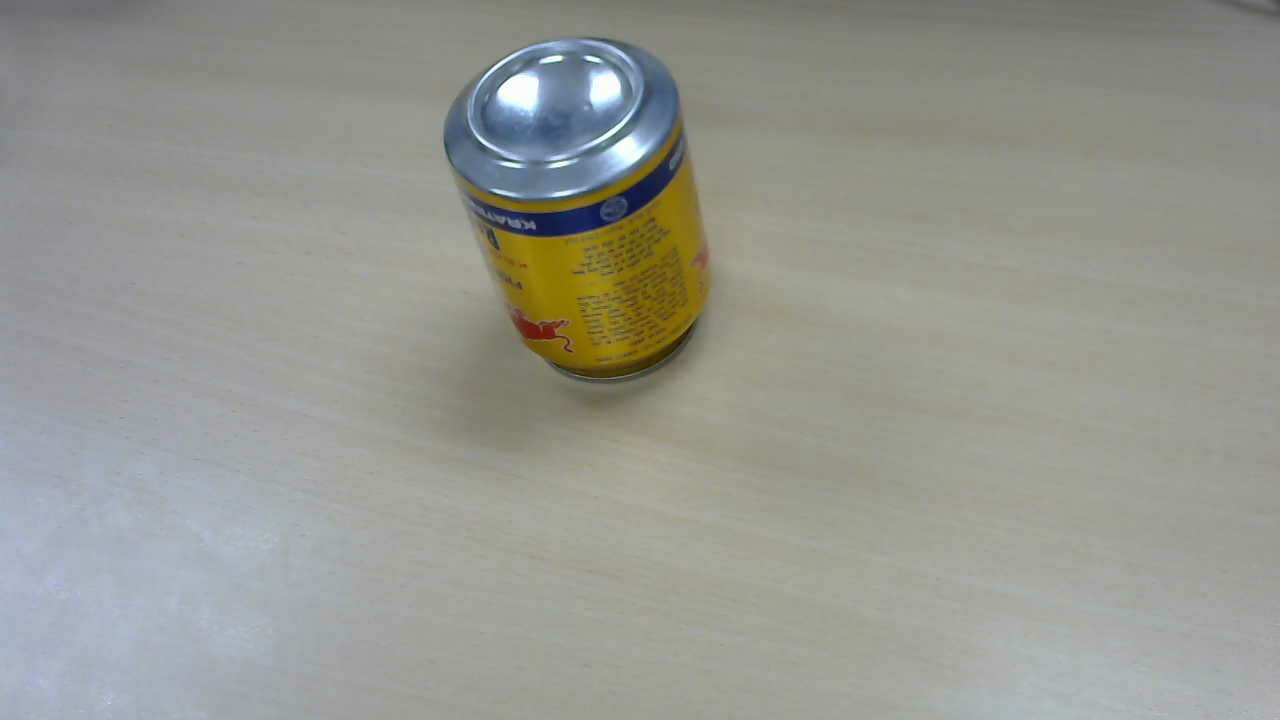Red_Bull: (448, 41, 720, 390)
